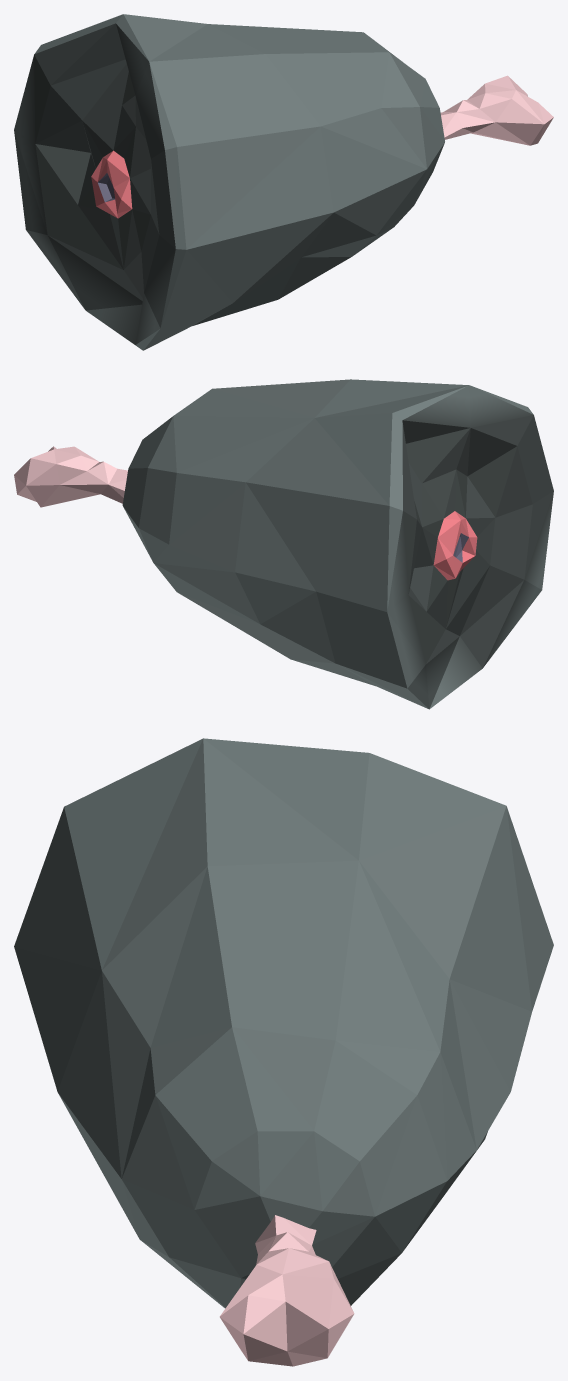
Rendered from SFI_Meat_Raw_005.fbx.
The picture shows the model from 3 angles, top to bottom: view 1: azimuth 30°, elevation 25°; view 2: azimuth 150°, elevation 25°; view 3: azimuth 270°, elevation 25°; orthographic projection. The views are drawn at different scales.
Visible parts, largest first — view 1: SFI_Meat_Raw_005; view 2: SFI_Meat_Raw_005; view 3: SFI_Meat_Raw_005.
Part boxes in pixels (x1,y1,x2,y2): SFI_Meat_Raw_005: (14, 14, 553, 350); SFI_Meat_Raw_005: (14, 379, 553, 709); SFI_Meat_Raw_005: (14, 738, 553, 1366).
Bounding box in the file's own units: 78.08 × 48.36 × 50.59.
